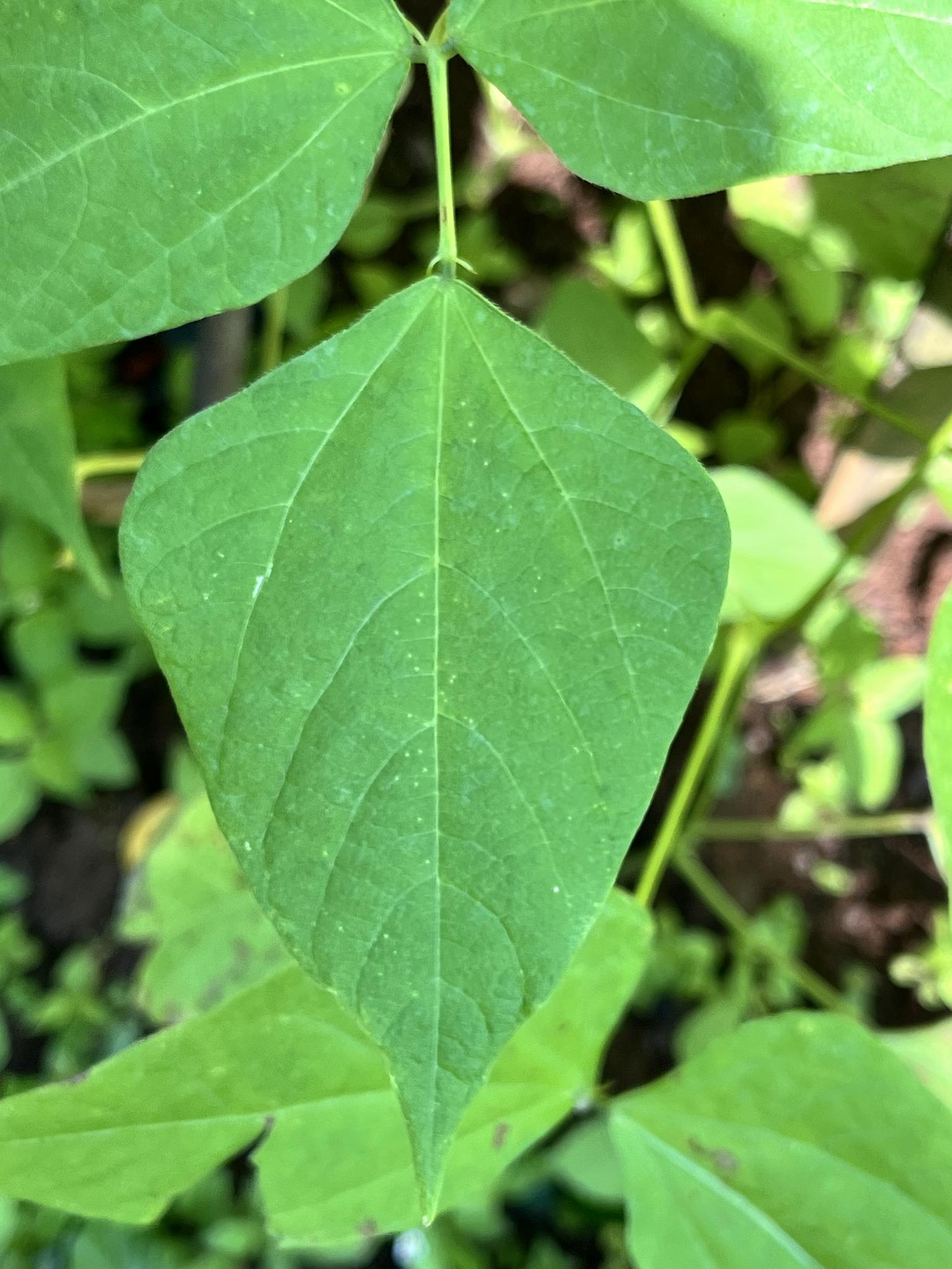sehat: (125, 268, 734, 1242)
